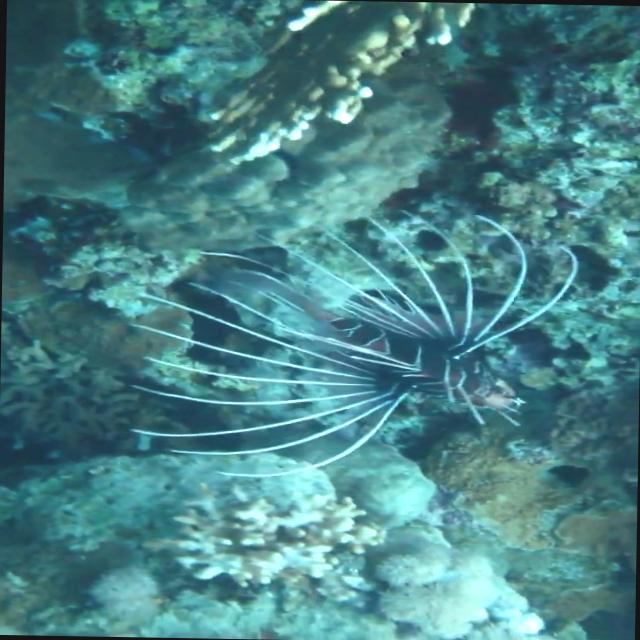Aslan Baligi: (120, 205, 580, 484)
